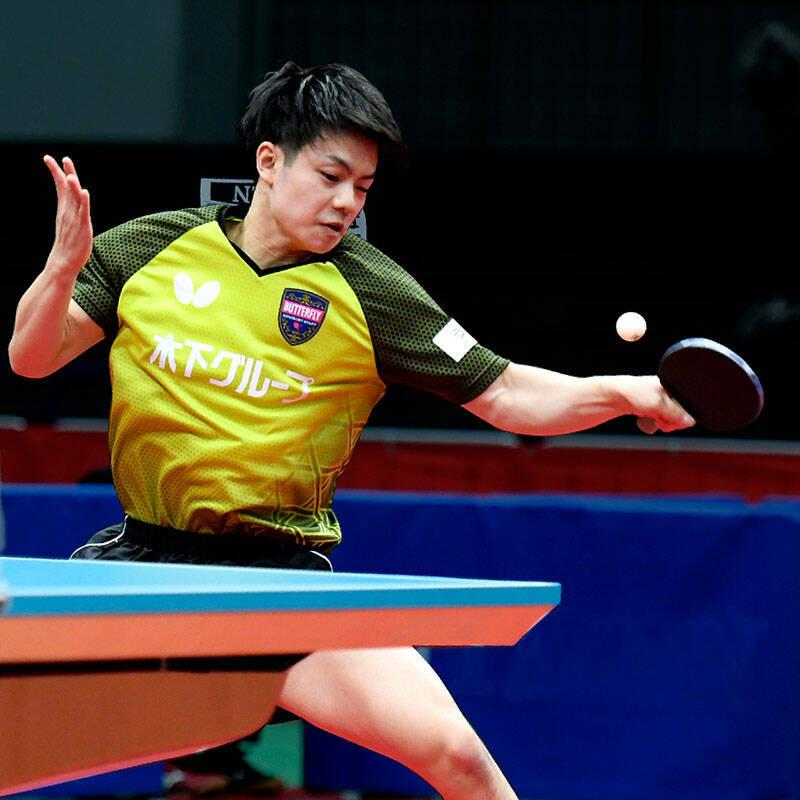ball_pingpong: (613, 310, 647, 342)
